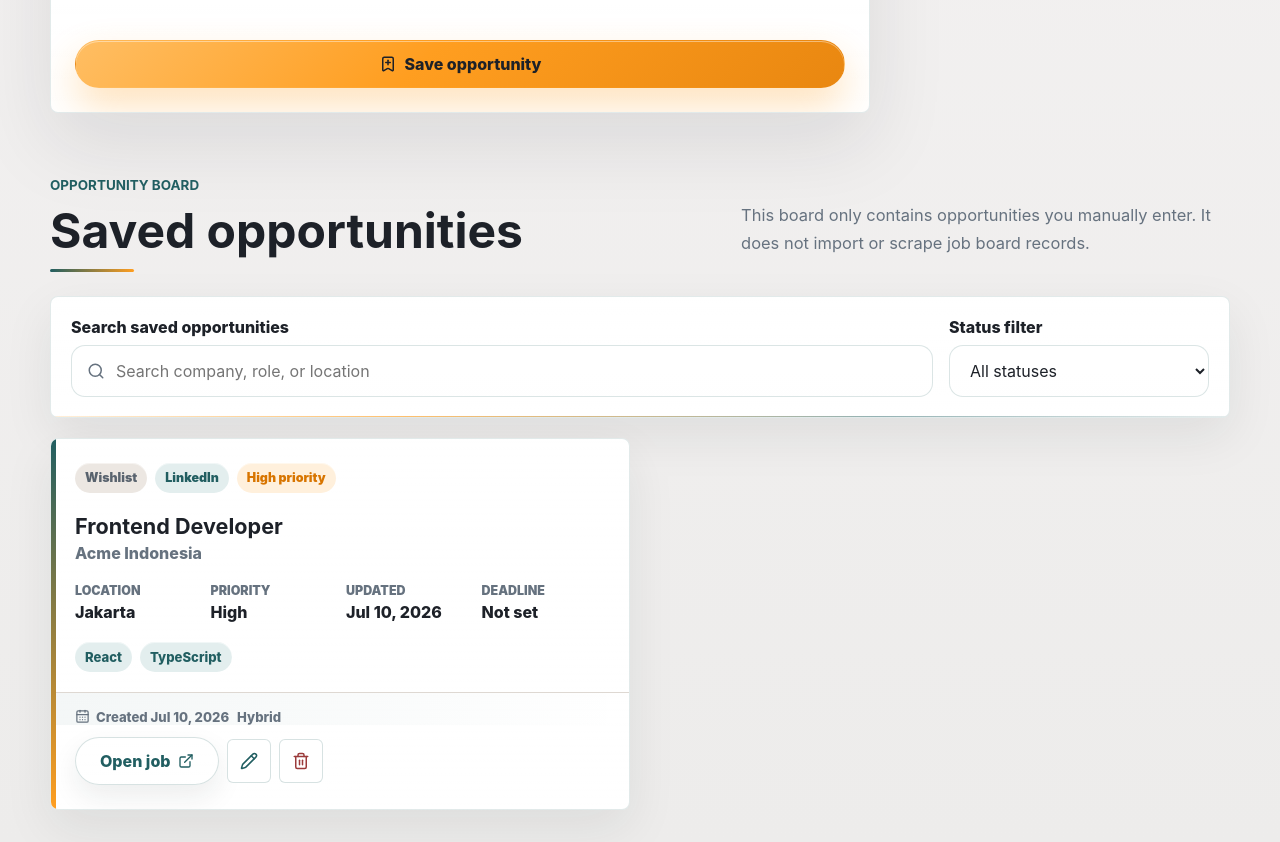
Test: SavedPage › deletes a saved opportunity after confirmation
(page scrolled)
Expected: the heading "Frontend Developer" is shown, x1=75 y1=512 x2=283 y2=538
Click the button named "Delete Frontend Developer" at (302,760), box x1=280 y1=738 x2=324 y2=782
(page scrolled)
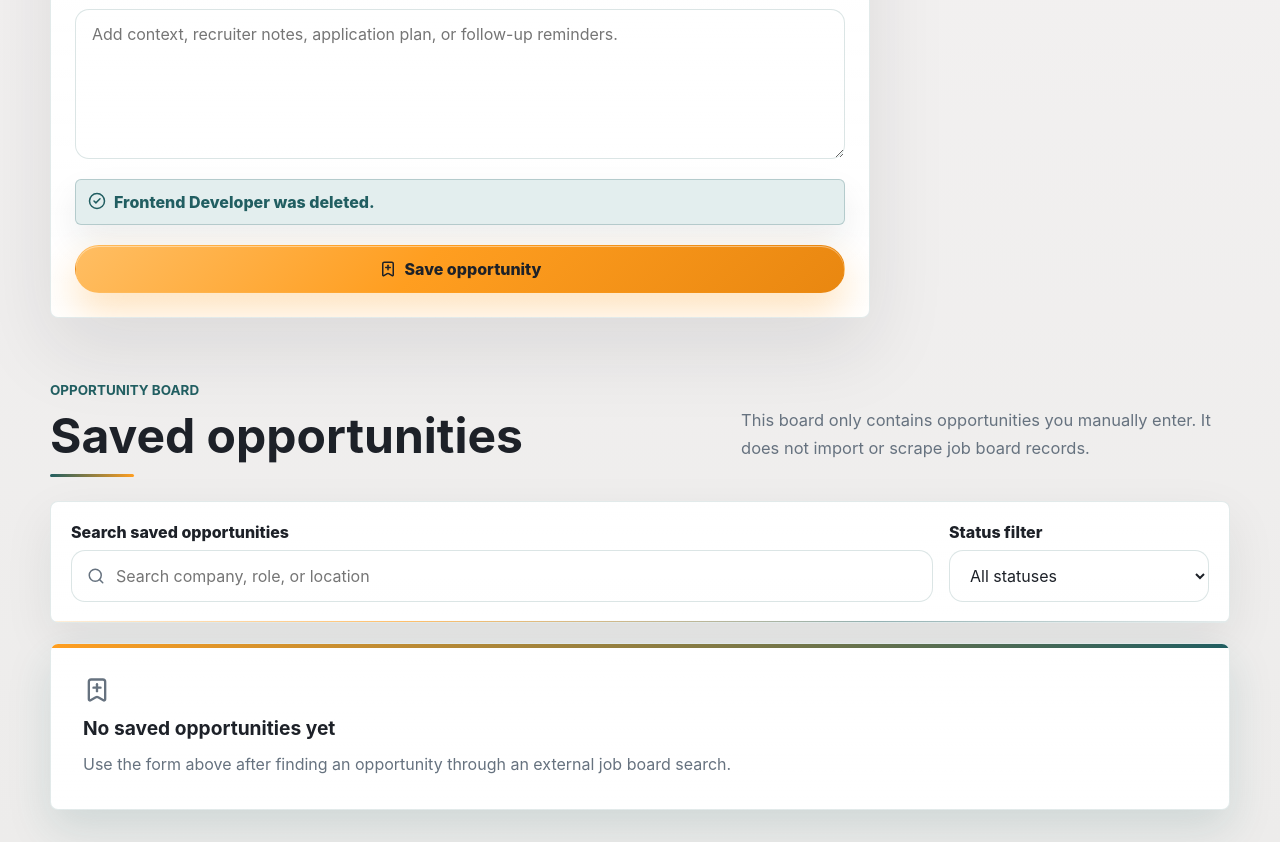
Expected: the text "Frontend Developer was deleted." is shown, x1=114 y1=192 x2=375 y2=212
